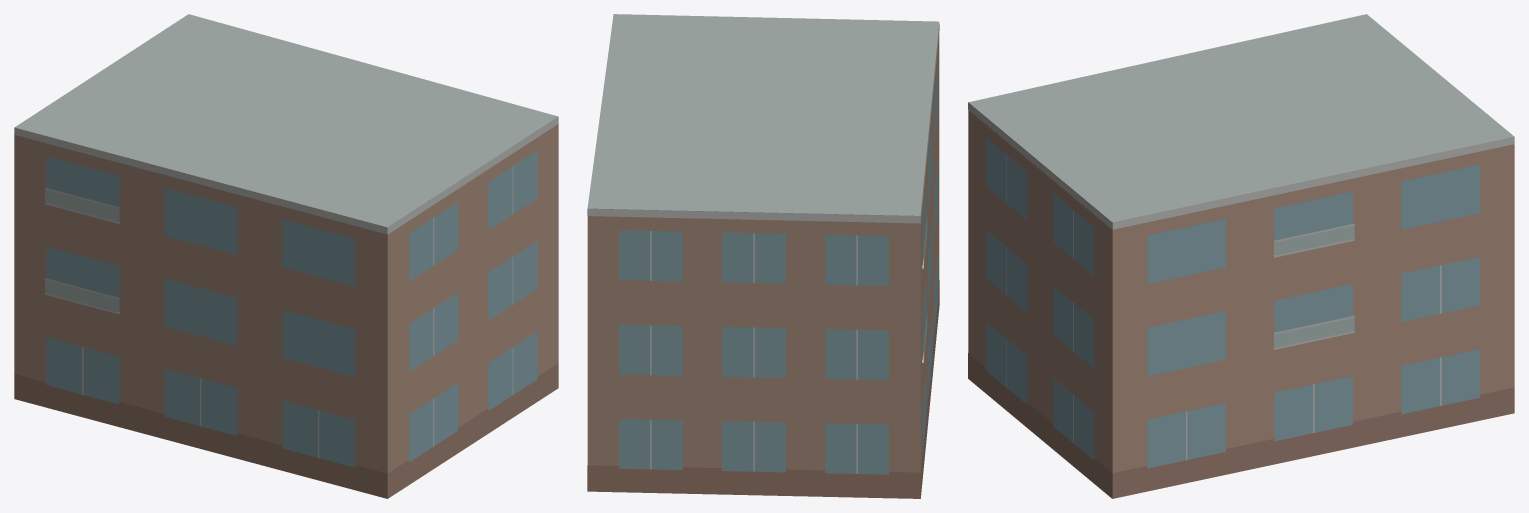
The model's file is survey-upis-32696705.glb.
3 renders of one model, left to right at view 1: azimuth 30°, elevation 25°; view 2: azimuth 150°, elevation 25°; view 3: azimuth 270°, elevation 25°, orthographic. The views are drawn at different scales.
Visible parts, largest first — view 1: survey-upis-32696705.tmp; view 2: survey-upis-32696705.tmp; view 3: survey-upis-32696705.tmp.
Boxes of the visible parts, x1=… form: survey-upis-32696705.tmp: x1=14, y1=14, x2=558, y2=498; survey-upis-32696705.tmp: x1=587, y1=14, x2=939, y2=498; survey-upis-32696705.tmp: x1=968, y1=14, x2=1514, y2=498.
Size of the model in its own units: 14.81 by 9.15 by 16.4.
